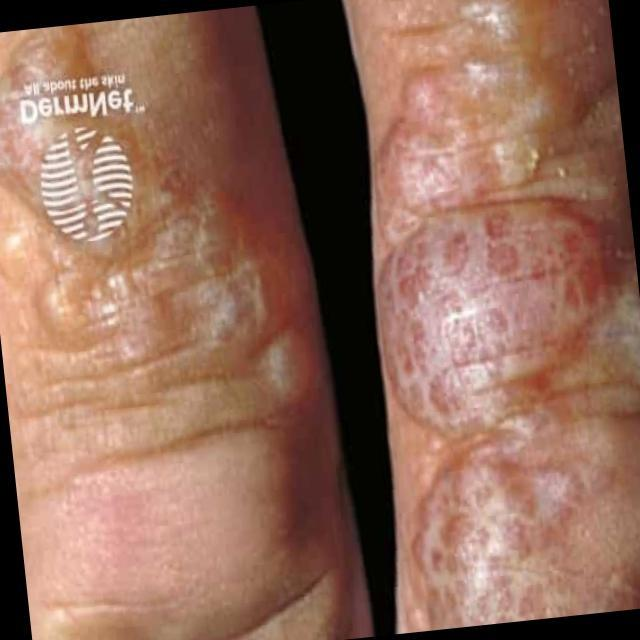Eczema: (368, 22, 626, 614), (0, 20, 309, 442)
